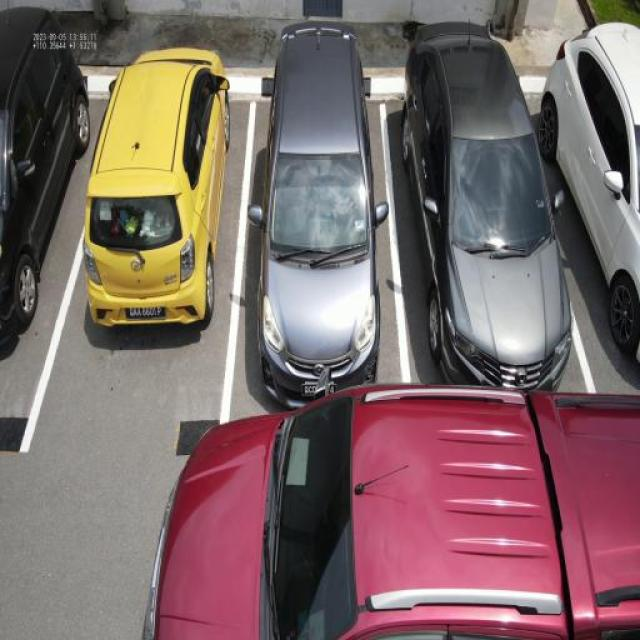Legalparking: (3, 1, 640, 410)
illegalparking: (144, 387, 640, 640)
